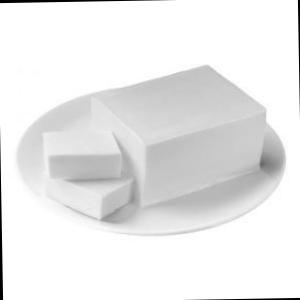butter: (34, 52, 268, 226)
